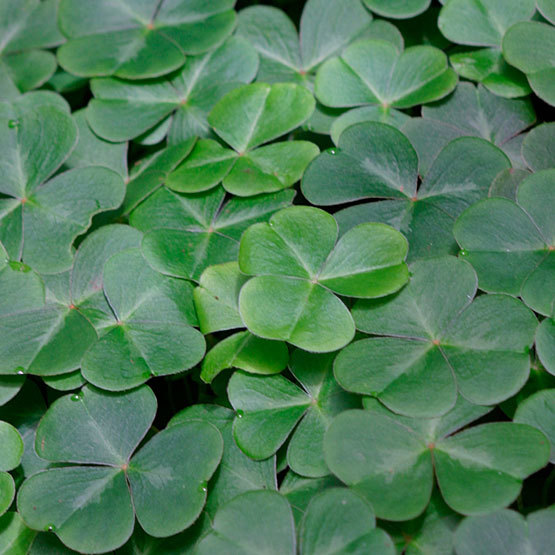oxalis: (22, 22, 555, 552)
